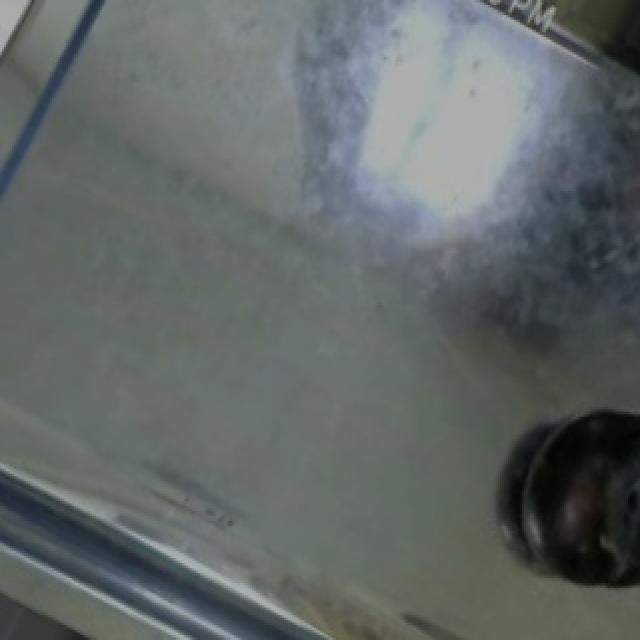Fruit: (512, 394, 640, 616)
